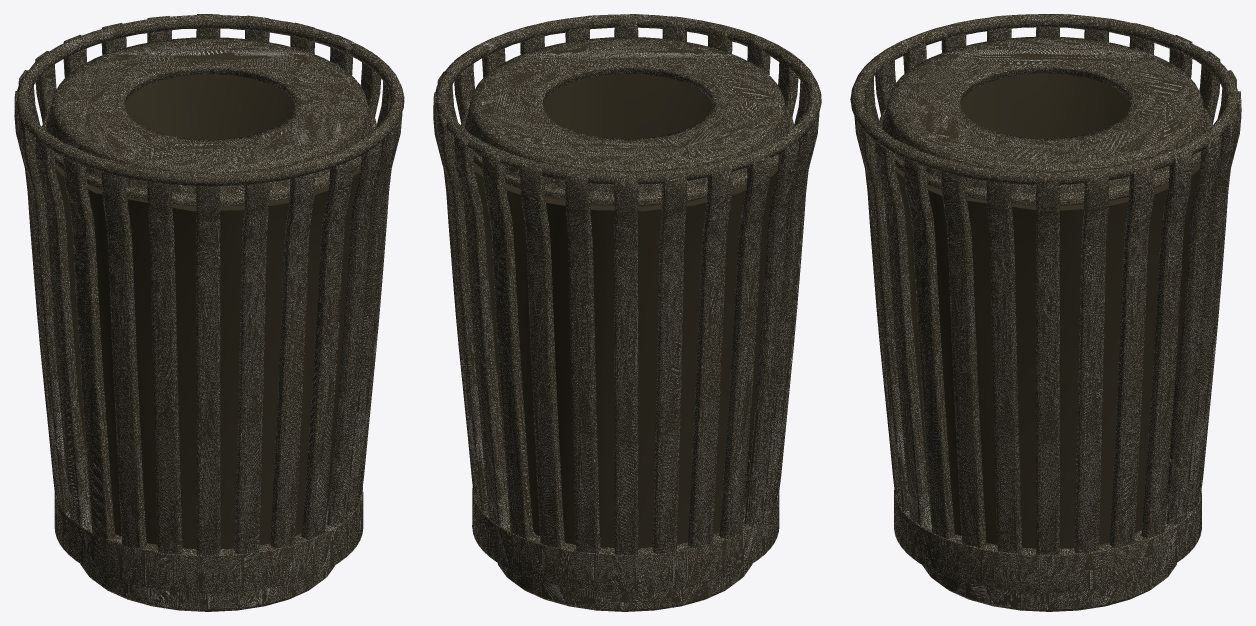
The picture shows the model from 3 angles, left to right: view 1: azimuth 30°, elevation 25°; view 2: azimuth 150°, elevation 25°; view 3: azimuth 270°, elevation 25°; orthographic projection.
Visible parts, largest first — view 1: mesh1_mesh1-geometry, mesh2_mesh2-geometry, mesh3_mesh3-geometry, mesh5_mesh5-geometry, mesh6_mesh6-geometry, mesh4_mesh4-geometry; view 2: mesh1_mesh1-geometry, mesh2_mesh2-geometry, mesh3_mesh3-geometry, mesh5_mesh5-geometry, mesh6_mesh6-geometry, mesh4_mesh4-geometry; view 3: mesh1_mesh1-geometry, mesh2_mesh2-geometry, mesh3_mesh3-geometry, mesh5_mesh5-geometry, mesh6_mesh6-geometry, mesh4_mesh4-geometry.
Part boxes in pixels (bbox=[...]): mesh1_mesh1-geometry: bbox=[14, 14, 402, 593]; mesh2_mesh2-geometry: bbox=[55, 74, 360, 548]; mesh3_mesh3-geometry: bbox=[42, 37, 377, 205]; mesh5_mesh5-geometry: bbox=[54, 459, 363, 592]; mesh6_mesh6-geometry: bbox=[15, 14, 404, 186]; mesh4_mesh4-geometry: bbox=[80, 506, 335, 611]; mesh1_mesh1-geometry: bbox=[433, 19, 819, 592]; mesh2_mesh2-geometry: bbox=[460, 73, 778, 548]; mesh3_mesh3-geometry: bbox=[461, 37, 794, 204]; mesh5_mesh5-geometry: bbox=[472, 459, 779, 592]; mesh6_mesh6-geometry: bbox=[435, 14, 821, 184]; mesh4_mesh4-geometry: bbox=[497, 505, 752, 611]; mesh1_mesh1-geometry: bbox=[854, 23, 1241, 592]; mesh2_mesh2-geometry: bbox=[895, 73, 1200, 548]; mesh3_mesh3-geometry: bbox=[878, 36, 1212, 204]; mesh5_mesh5-geometry: bbox=[894, 458, 1201, 592]; mesh6_mesh6-geometry: bbox=[850, 14, 1238, 184]; mesh4_mesh4-geometry: bbox=[922, 505, 1176, 611].
Size of the model in its own units: 0.5157 by 0.6817 by 0.5191.
